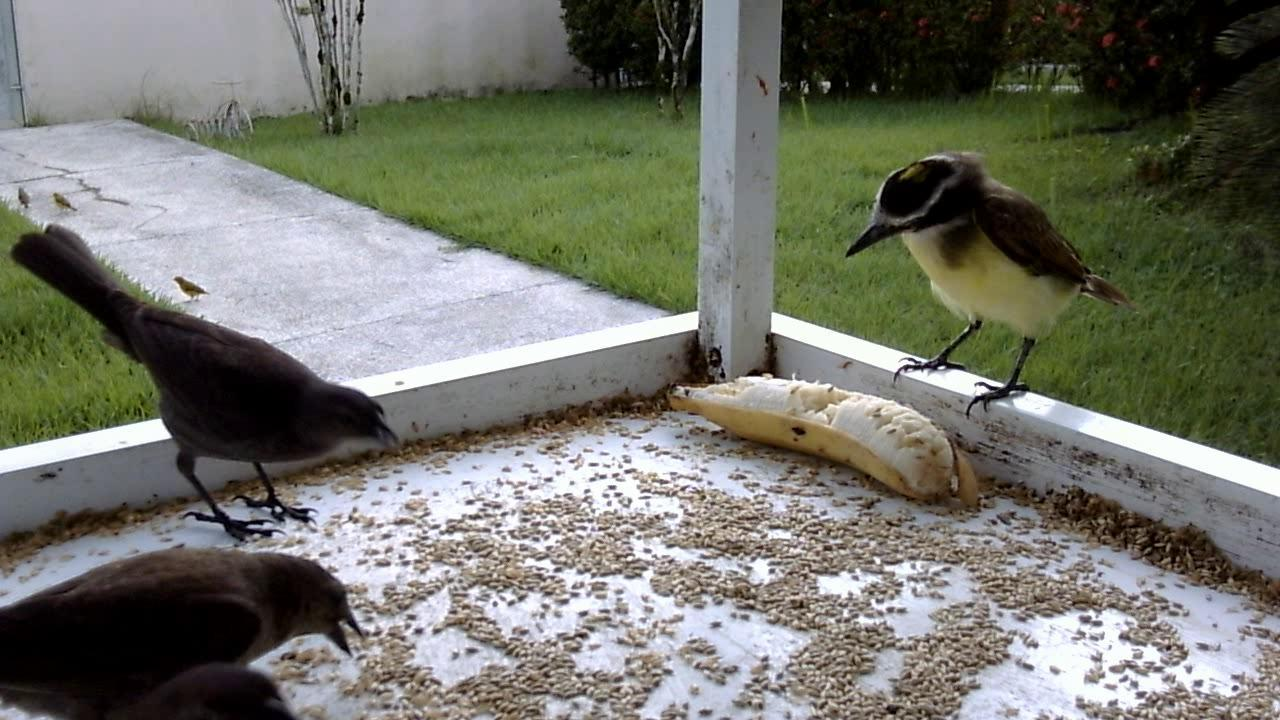bem_te_vi: (833, 143, 1138, 433)
chupim: (1, 207, 405, 565), (1, 529, 379, 712)
